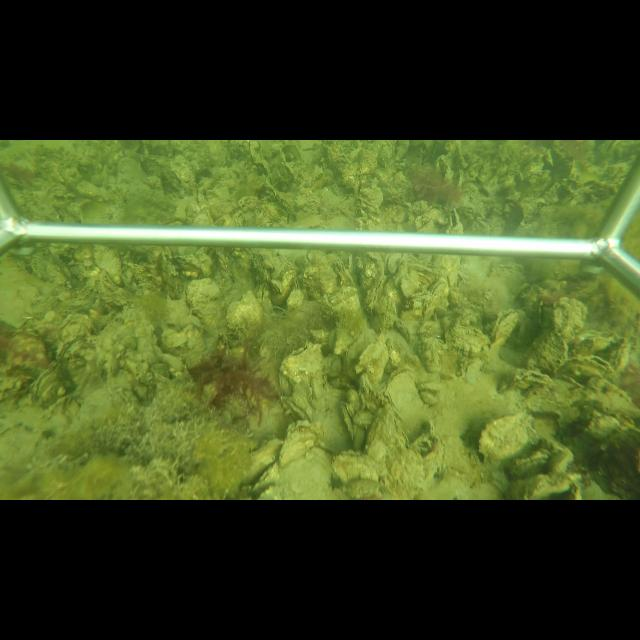Oyster-Closed: (333, 403, 445, 497), (277, 343, 330, 435), (477, 410, 538, 462), (386, 366, 427, 432), (184, 276, 225, 337), (524, 324, 570, 378), (223, 288, 268, 338), (278, 420, 322, 470), (553, 356, 620, 387), (341, 329, 379, 377), (32, 362, 73, 401), (490, 309, 521, 348), (328, 252, 358, 289), (250, 460, 283, 492), (364, 274, 388, 318), (339, 398, 359, 444), (611, 337, 631, 372), (427, 278, 451, 307)
Oyster-Open: (445, 208, 465, 233)
